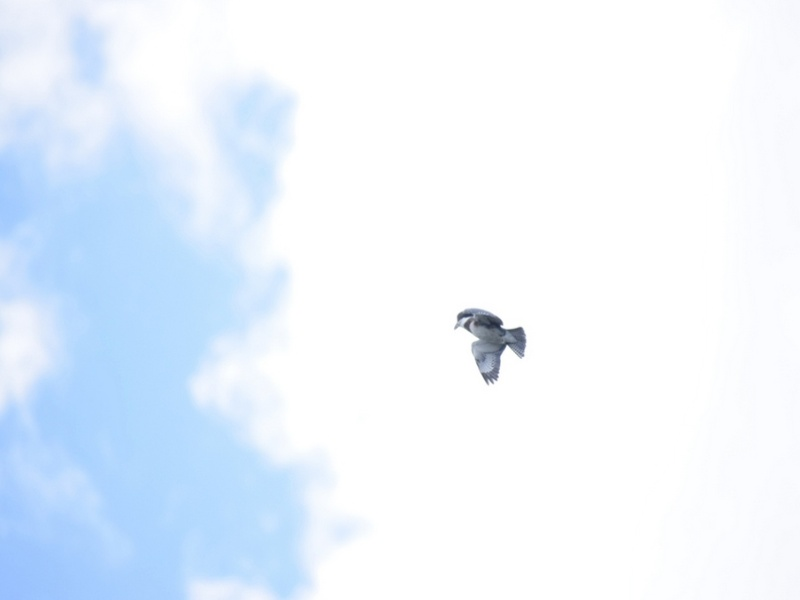kingfisher: (452, 308, 528, 386)
